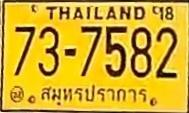2: (155, 26, 177, 78)
3: (37, 25, 58, 76)
5: (104, 25, 126, 76)
7: (80, 25, 101, 76), (14, 25, 35, 76)
8: (130, 26, 151, 77)
SPK: (36, 81, 151, 107)
